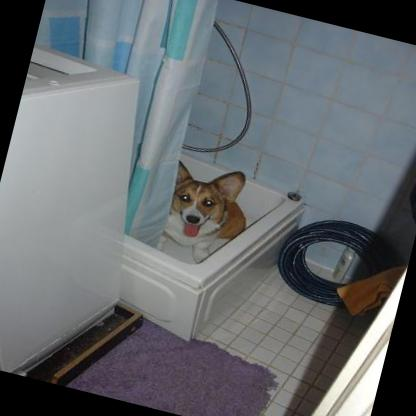Pembroke: (149, 156, 260, 271)
